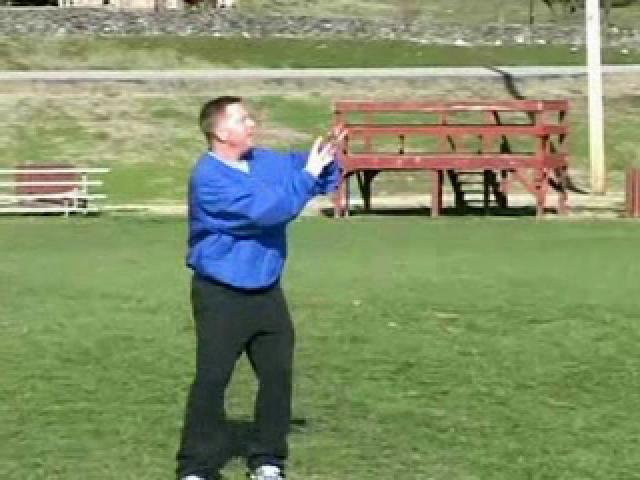I: (166, 88, 345, 480)
